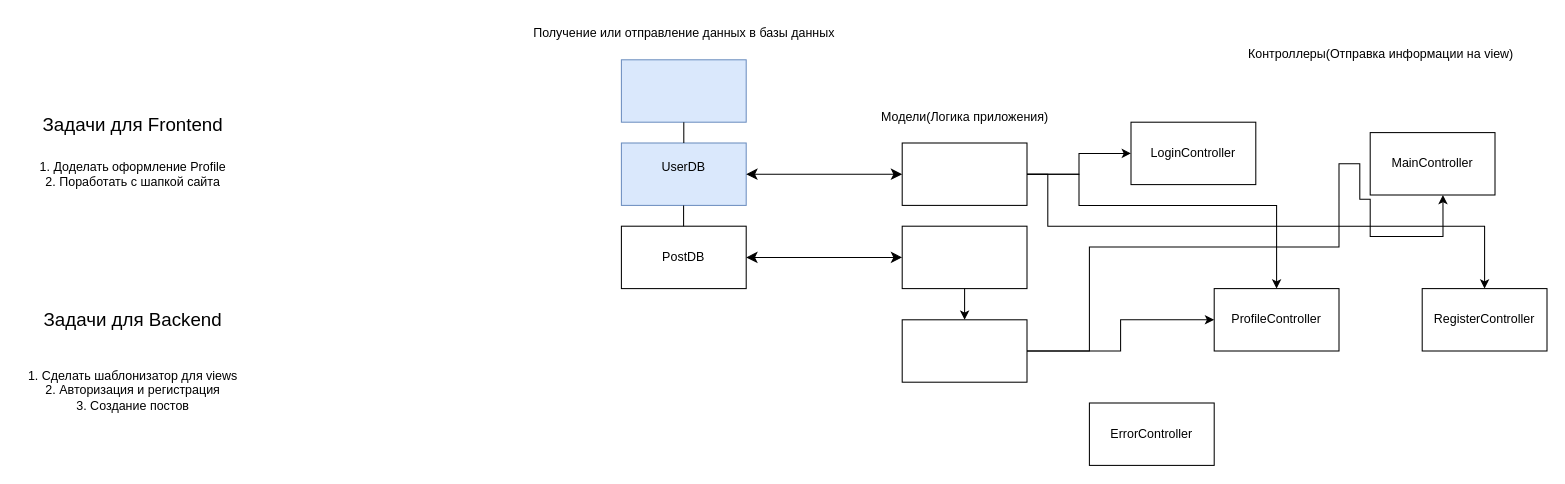
Some shapes in this 1565 by 484 pixel diagram are drawn without their labels. The centre of each missing label's shape, as x and y in pixels:
"Database" belongs at point 683,90.
"Post" belongs at point 964,350.
"Posts" belongs at point 964,257.
"User" belongs at point 964,173.
